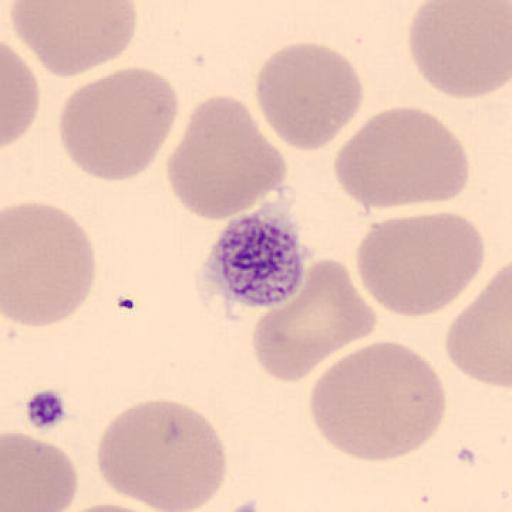Platelet: (193, 208, 313, 310)
RBC: (308, 340, 450, 463), (251, 257, 378, 383), (166, 92, 288, 222), (96, 398, 228, 512), (334, 104, 471, 211), (57, 65, 181, 182), (355, 210, 486, 318), (2, 200, 98, 329), (253, 41, 364, 152), (407, 1, 512, 101), (8, 1, 138, 78), (445, 262, 512, 390), (2, 430, 78, 512), (0, 39, 40, 149), (55, 502, 180, 512)
